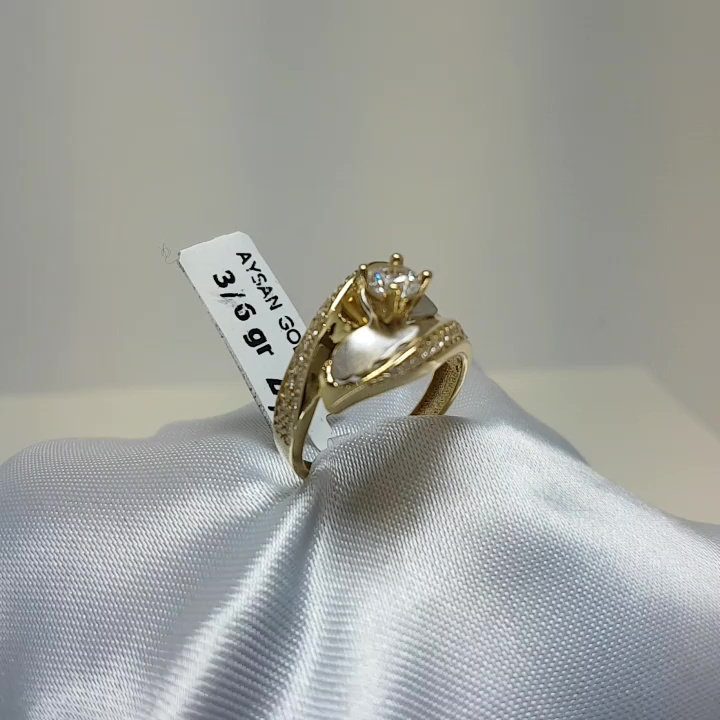Ring 6: (255, 244, 477, 514)
